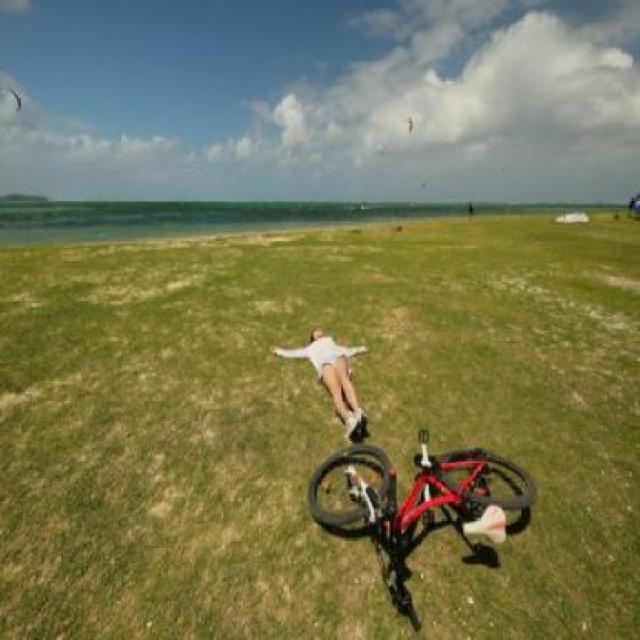fall: (265, 314, 380, 441)
